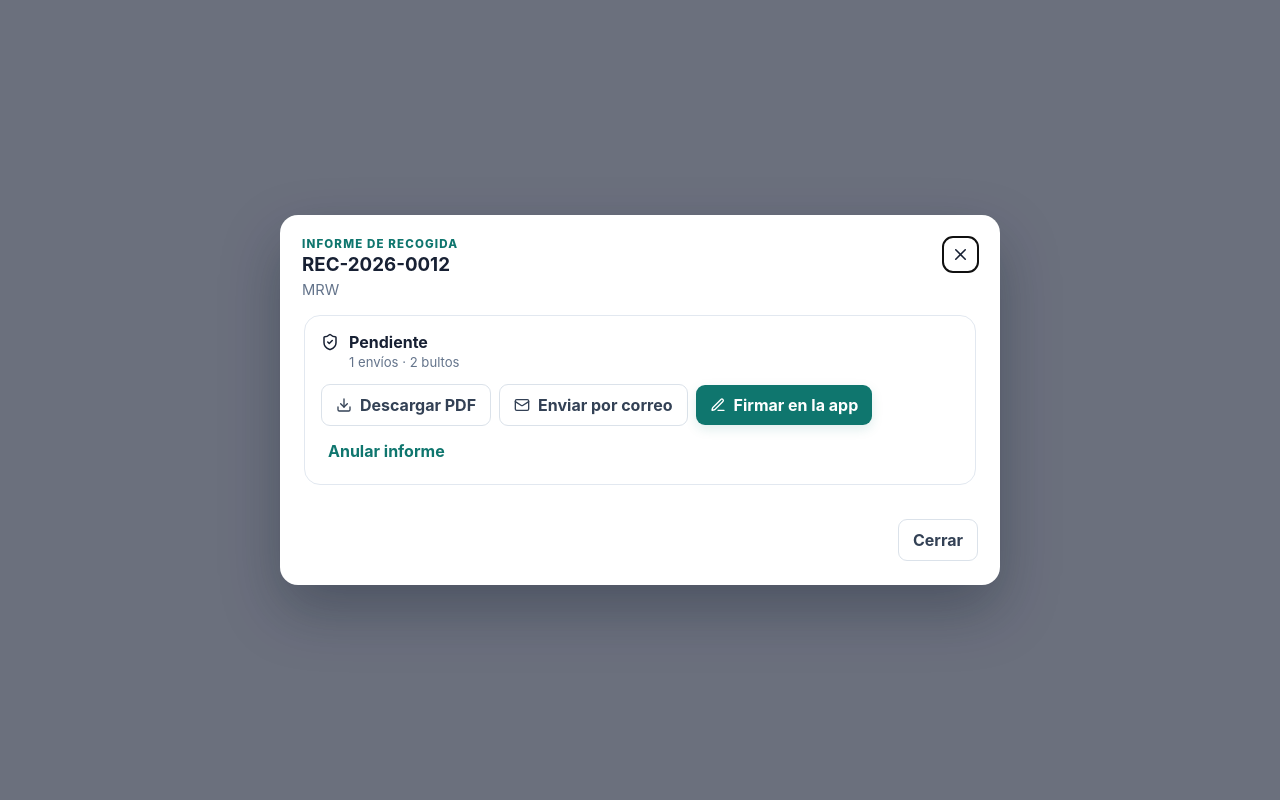
it: reconciles an uncertain provider result without sending again
The image size is (1280, 800).
Click the button "Enviar por correo" at (593, 405), box [499,384,688,426]
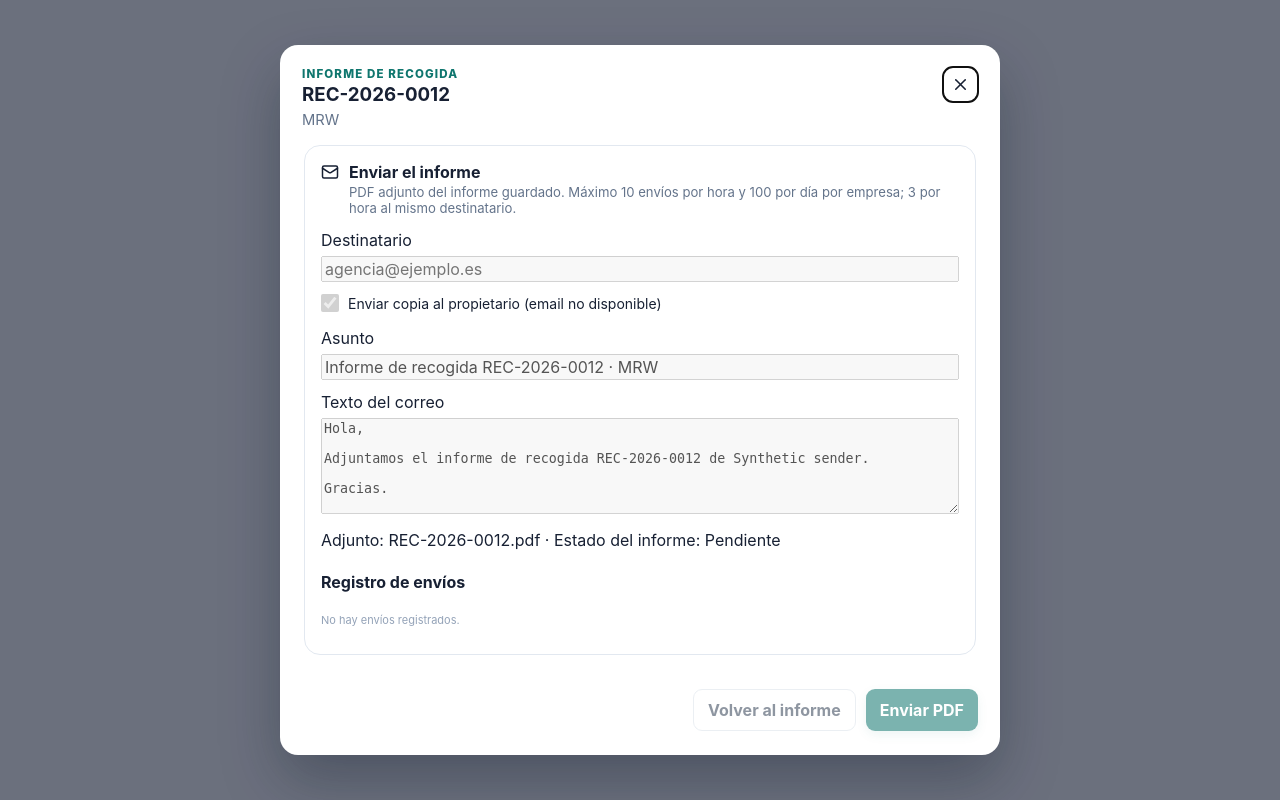
Type "owner@example.test" into the field labelled "Destinatario" at (640, 269), box [321,256,959,282]
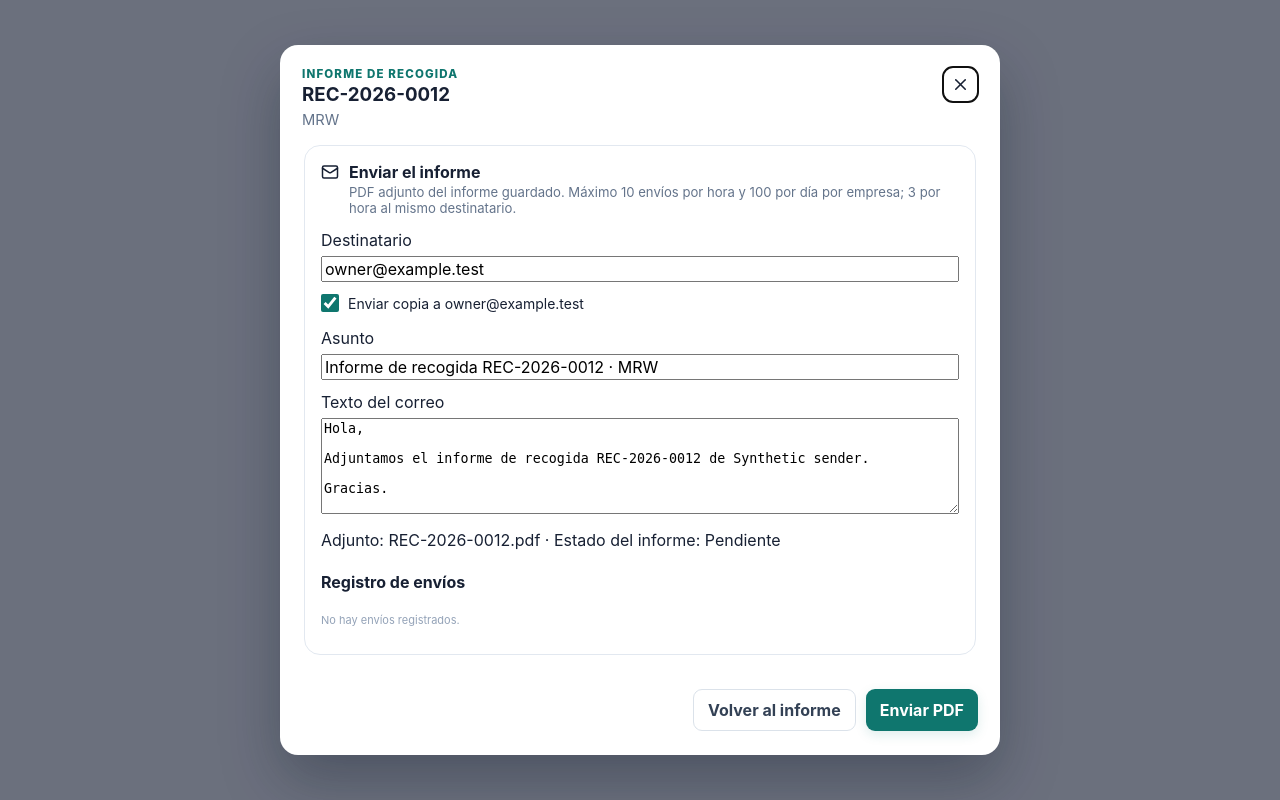
Check: the button "Enviar PDF" is enabled
Click the button "Enviar PDF" at (922, 710), box [866,689,978,731]
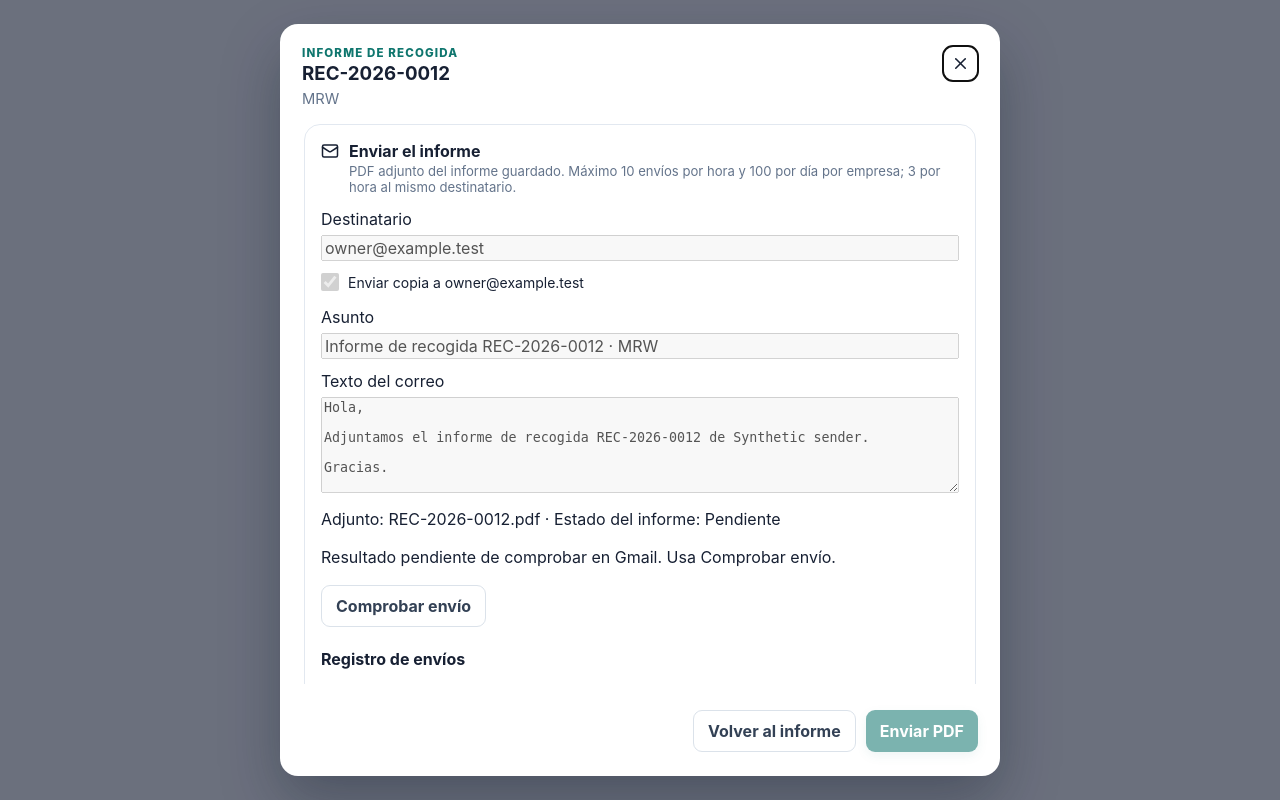
Click the button "Comprobar envío" at (404, 606), box [321,585,486,627]
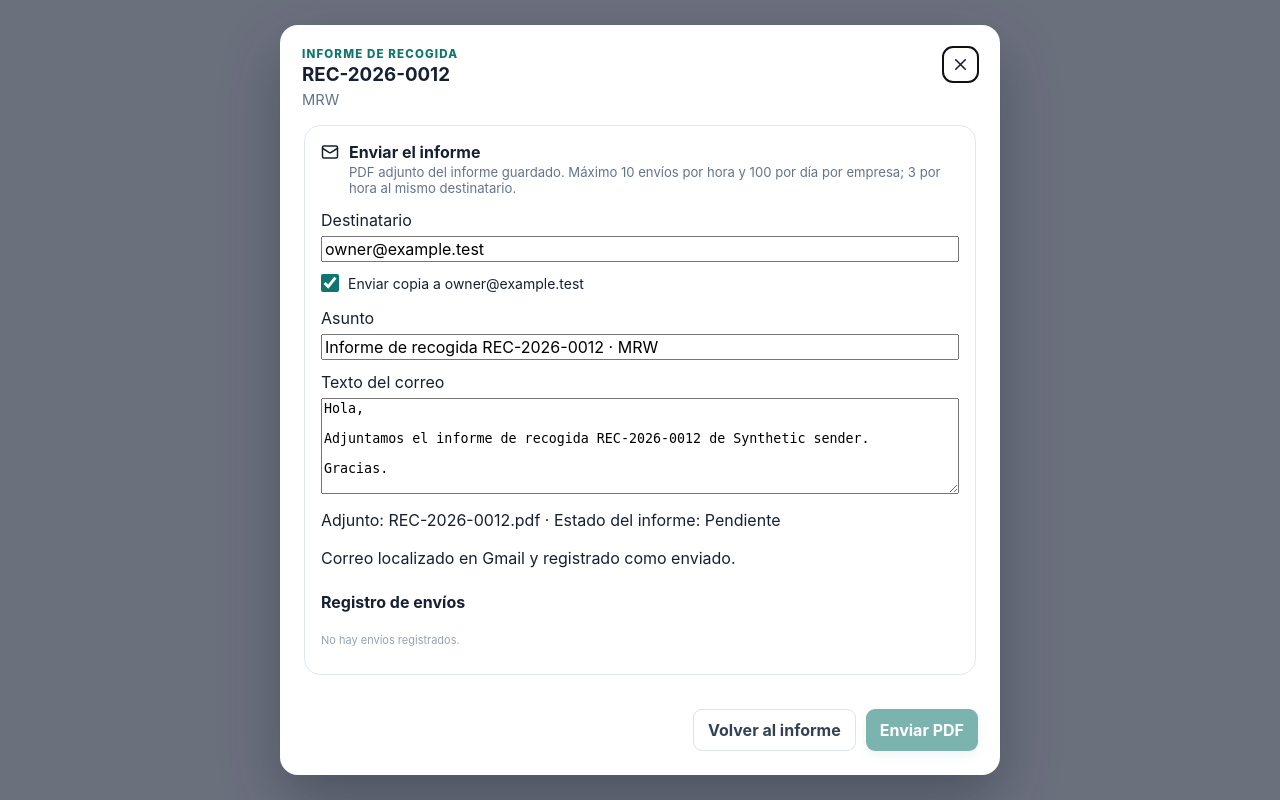
Check: the button "Enviar PDF" is disabled, box [866,709,978,751]
Check: the text "Correo localizado en Gmail y registrado como enviado." is shown, box [321,548,736,568]
